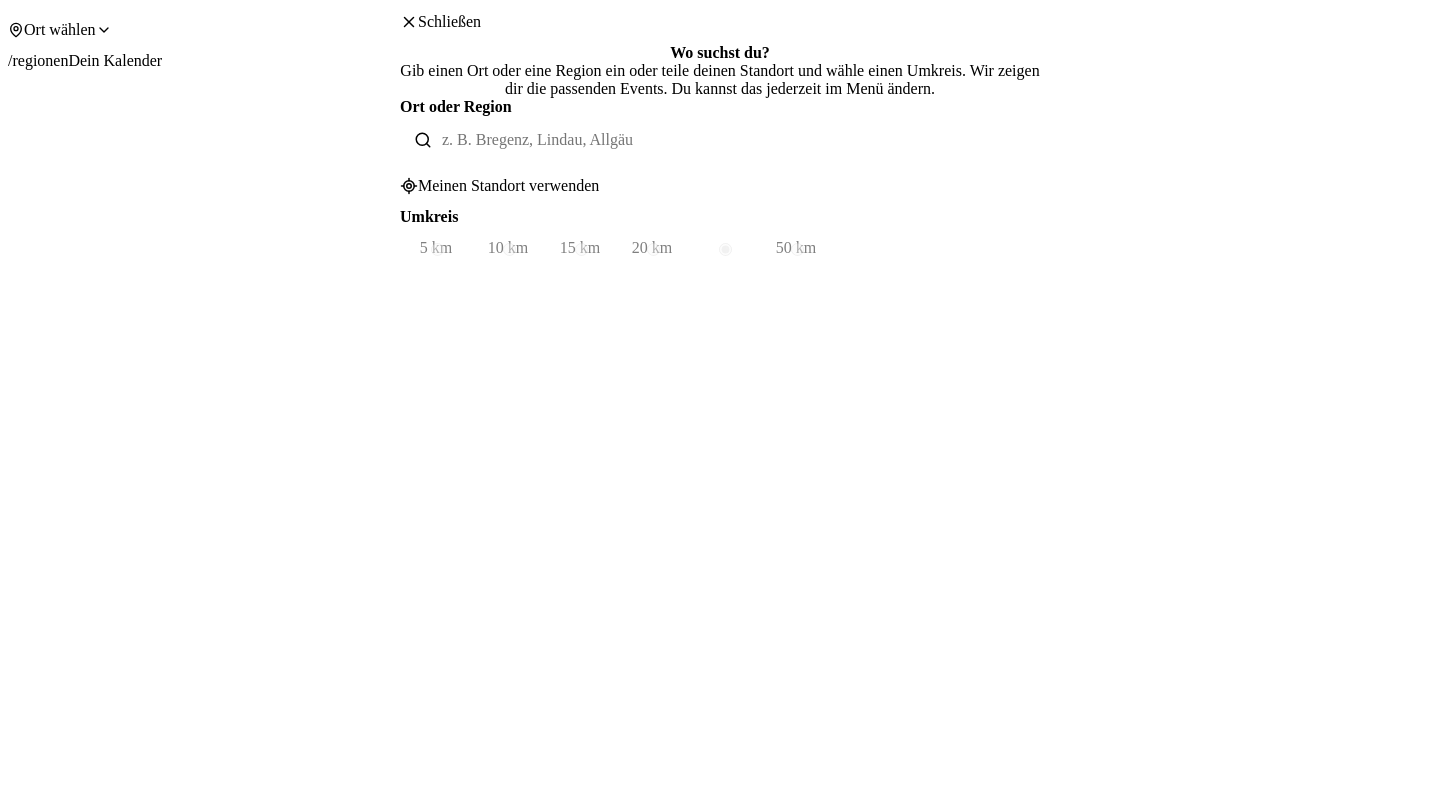
region chooser opened on purpose (/regionen) › shows the page although a region is remembered, and can be closed
Expected: the dialog with test id "region-chooser" is shown, [400,0,1040,318]
Click the button with test id "region-chooser-close": click(450, 22) [400,0,1040,44]
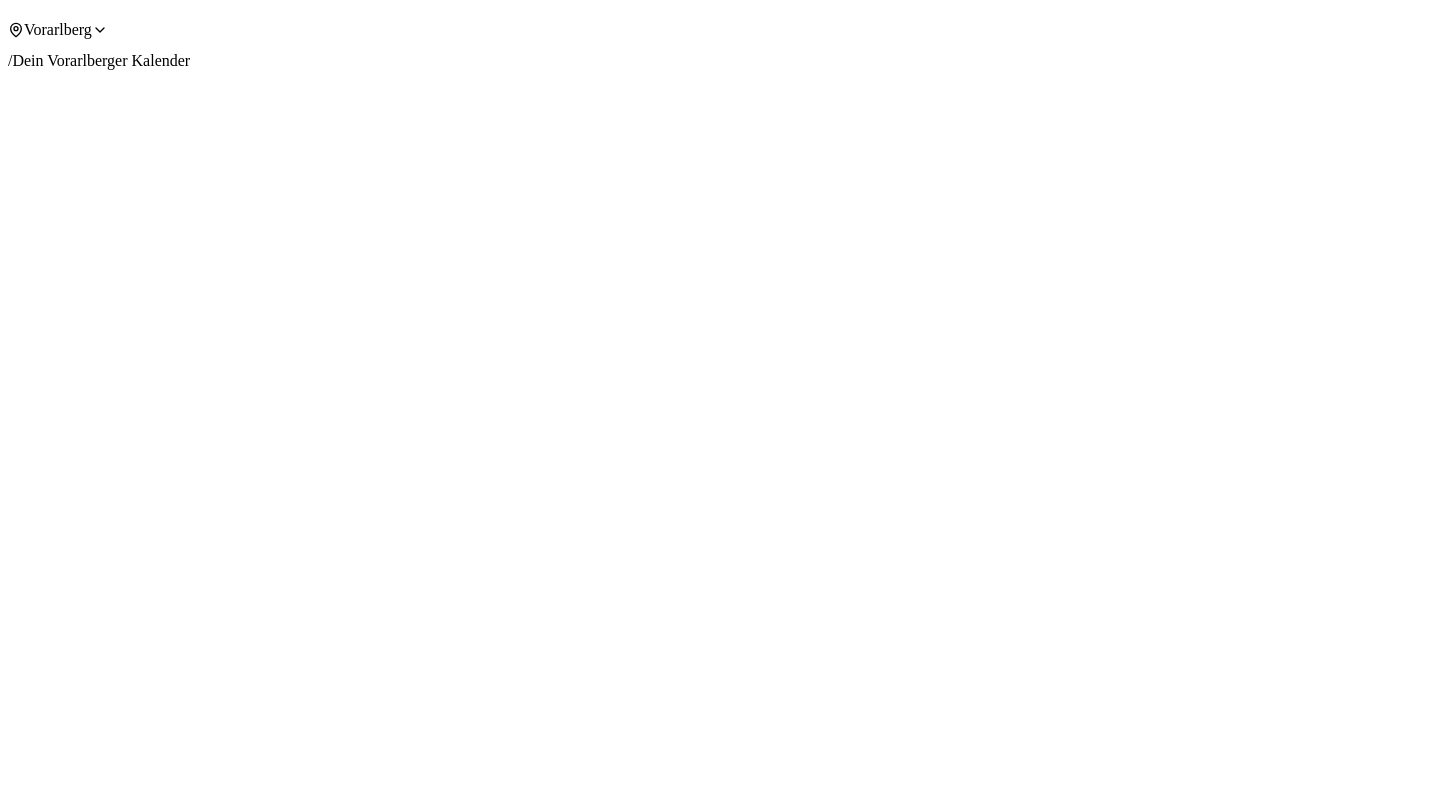
Result: the dialog with test id "region-chooser" is gone
